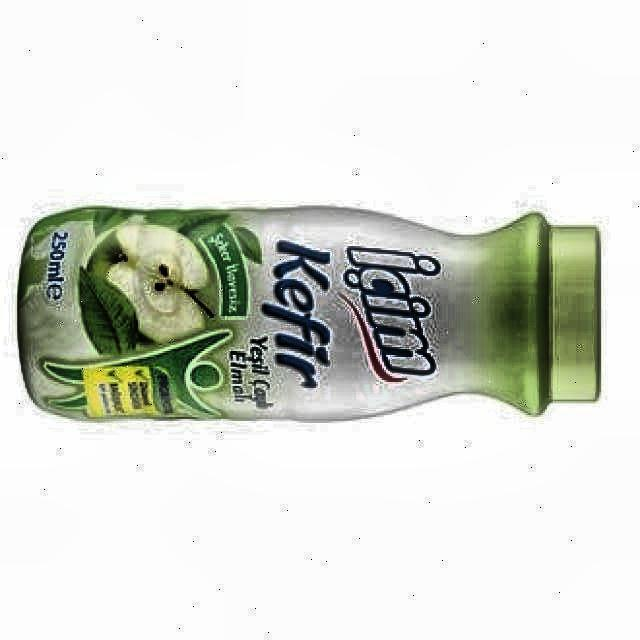plastic: (19, 206, 600, 420)
